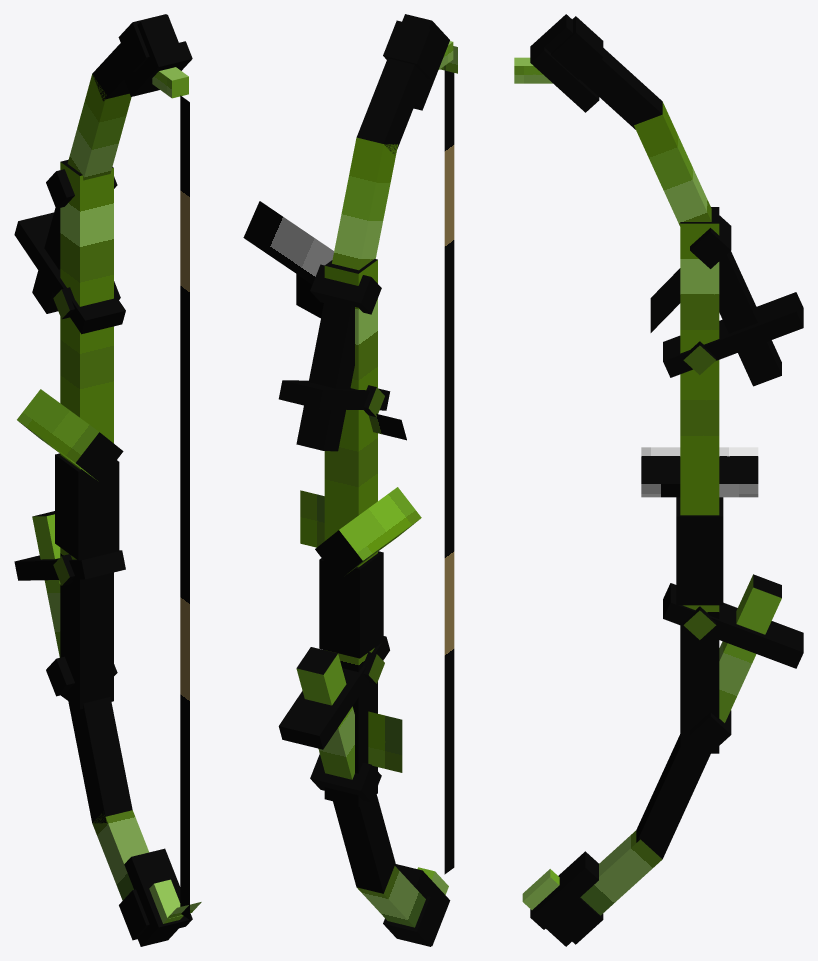
The model's file is jeg_primitive_bow.glb.
3 renders of one model, left to right at view 1: azimuth 30°, elevation 25°; view 2: azimuth 150°, elevation 25°; view 3: azimuth 270°, elevation 25°, orthographic.
Visible parts, largest first — view 1: Gun; view 2: Gun; view 3: Gun.
Part boxes in pixels (<box>): Gun: <box>14,14,201,946</box>; Gun: <box>243,14,457,946</box>; Gun: <box>514,14,803,946</box>.
Size of the model in its own units: 0.2481 by 1.3 by 0.3958.
Materials: 1 (1 with a texture image).
